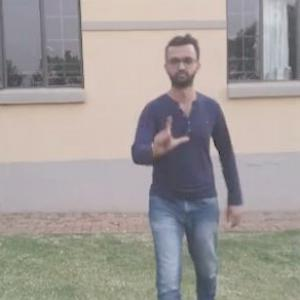land_hand: (146, 111, 190, 154)
